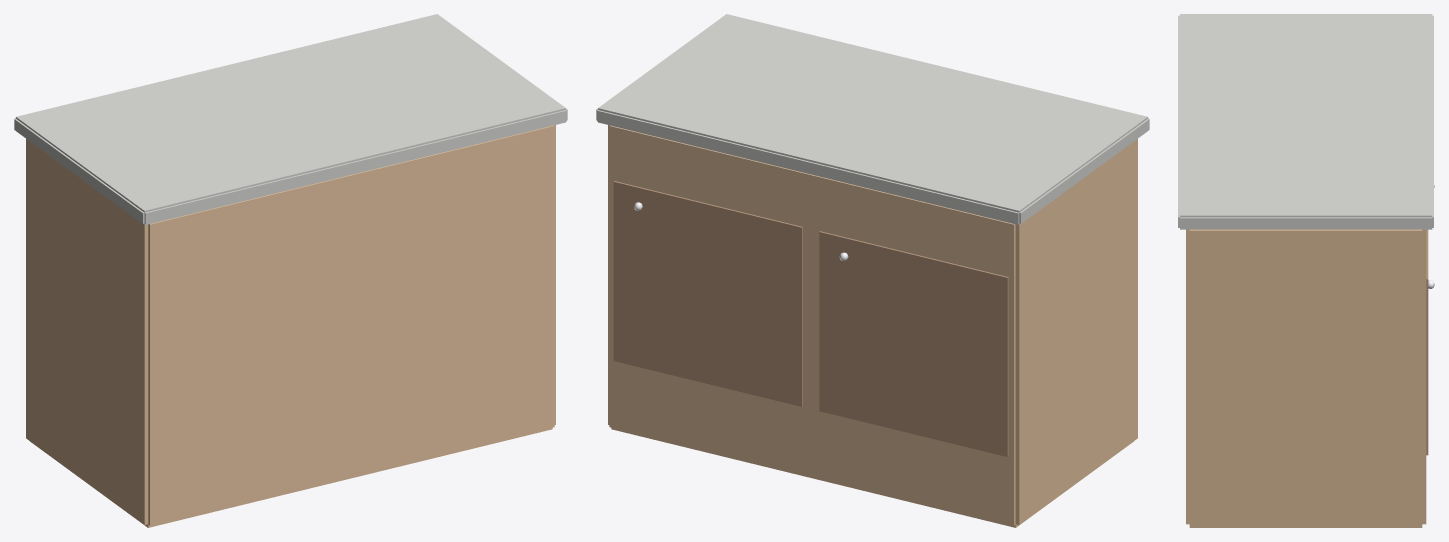
The model's file is kitchen_counter.glb.
3 renders of one model, left to right at view 1: azimuth 30°, elevation 25°; view 2: azimuth 150°, elevation 25°; view 3: azimuth 270°, elevation 25°, orthographic.
Visible parts, largest first — view 1: kitchen_counter; view 2: kitchen_counter; view 3: kitchen_counter.
Part boxes in pixels (left/top/right/bottom): kitchen_counter: left=14, top=14, right=567, bottom=527; kitchen_counter: left=596, top=14, right=1149, bottom=527; kitchen_counter: left=1178, top=14, right=1434, bottom=527.
Bounding box in the file's own units: 1.24 × 0.9 × 0.662.
